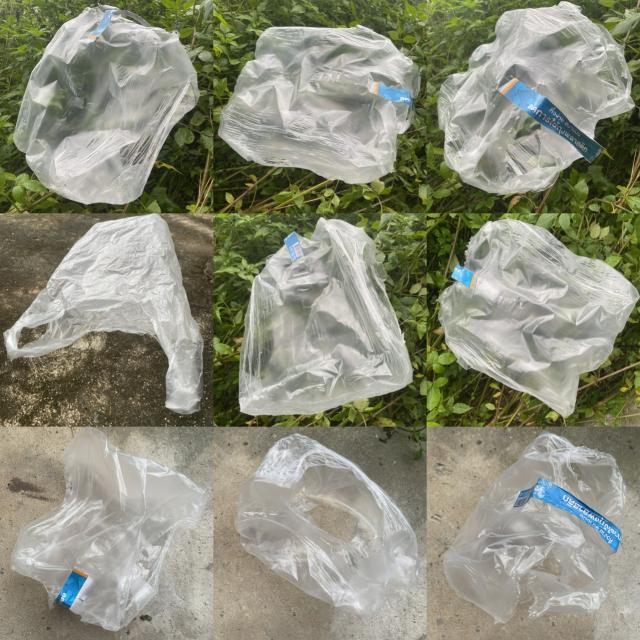Single-layer Plastic: (4, 215, 204, 414), (11, 428, 206, 631), (439, 220, 639, 415), (438, 2, 634, 194), (14, 5, 199, 204), (444, 432, 626, 622), (239, 218, 412, 415), (235, 434, 419, 616), (219, 25, 420, 184)
